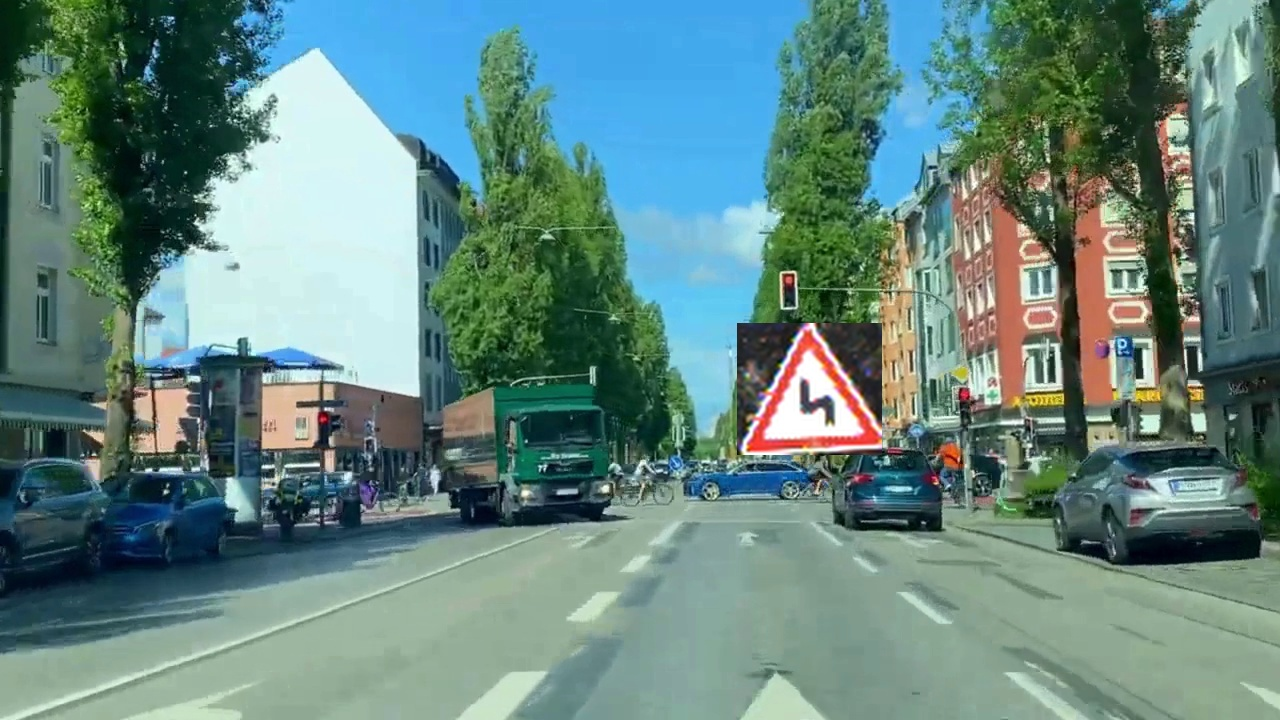Double curve: (737, 323, 882, 455)
